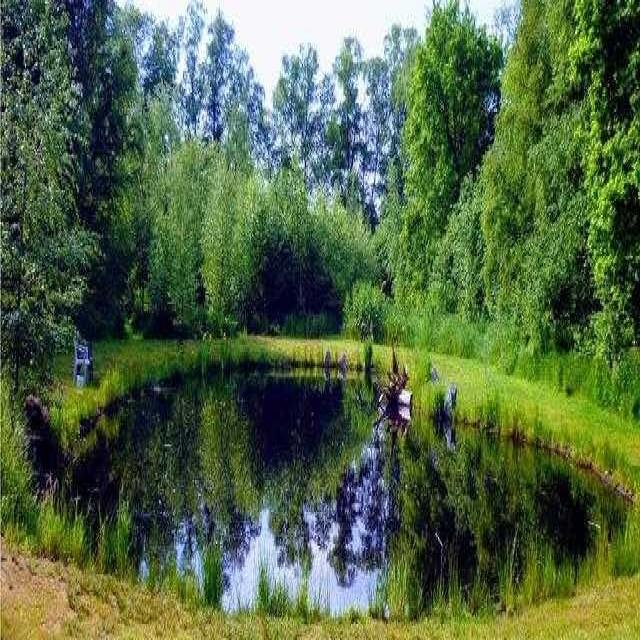Ponds: (60, 365, 640, 617)
